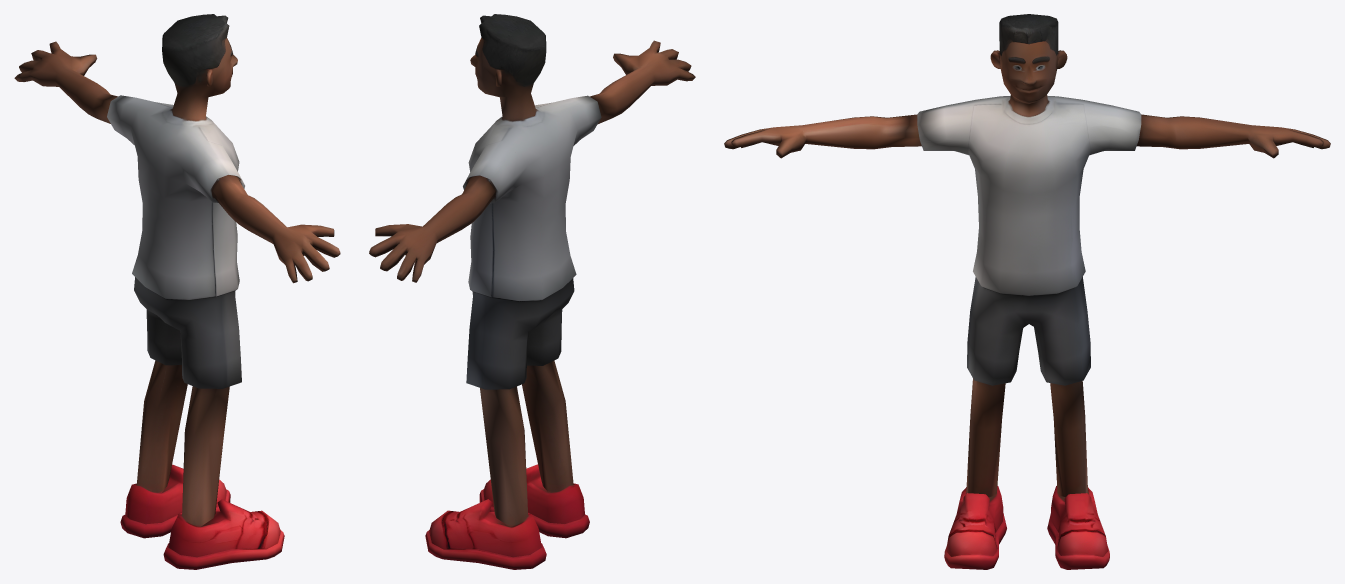
3 views of the same model, side by side, from view 1: azimuth 30°, elevation 25°; view 2: azimuth 150°, elevation 25°; view 3: azimuth 270°, elevation 25° (orthographic). The views are drawn at different scales.
Parts seen in each view (by area): view 1: tripo_node_34f0f2fe-8870-4e67-8726-8f9db2e24892; view 2: tripo_node_34f0f2fe-8870-4e67-8726-8f9db2e24892; view 3: tripo_node_34f0f2fe-8870-4e67-8726-8f9db2e24892.
Boxes of the visible parts, box(x1,y1,x2,y2) form: tripo_node_34f0f2fe-8870-4e67-8726-8f9db2e24892: box(14, 14, 340, 569); tripo_node_34f0f2fe-8870-4e67-8726-8f9db2e24892: box(369, 14, 695, 569); tripo_node_34f0f2fe-8870-4e67-8726-8f9db2e24892: box(724, 14, 1330, 569).
Size of the model in its own units: 0.2134 by 0.9663 by 0.9995.
Materials: 1 (1 with a texture image).
